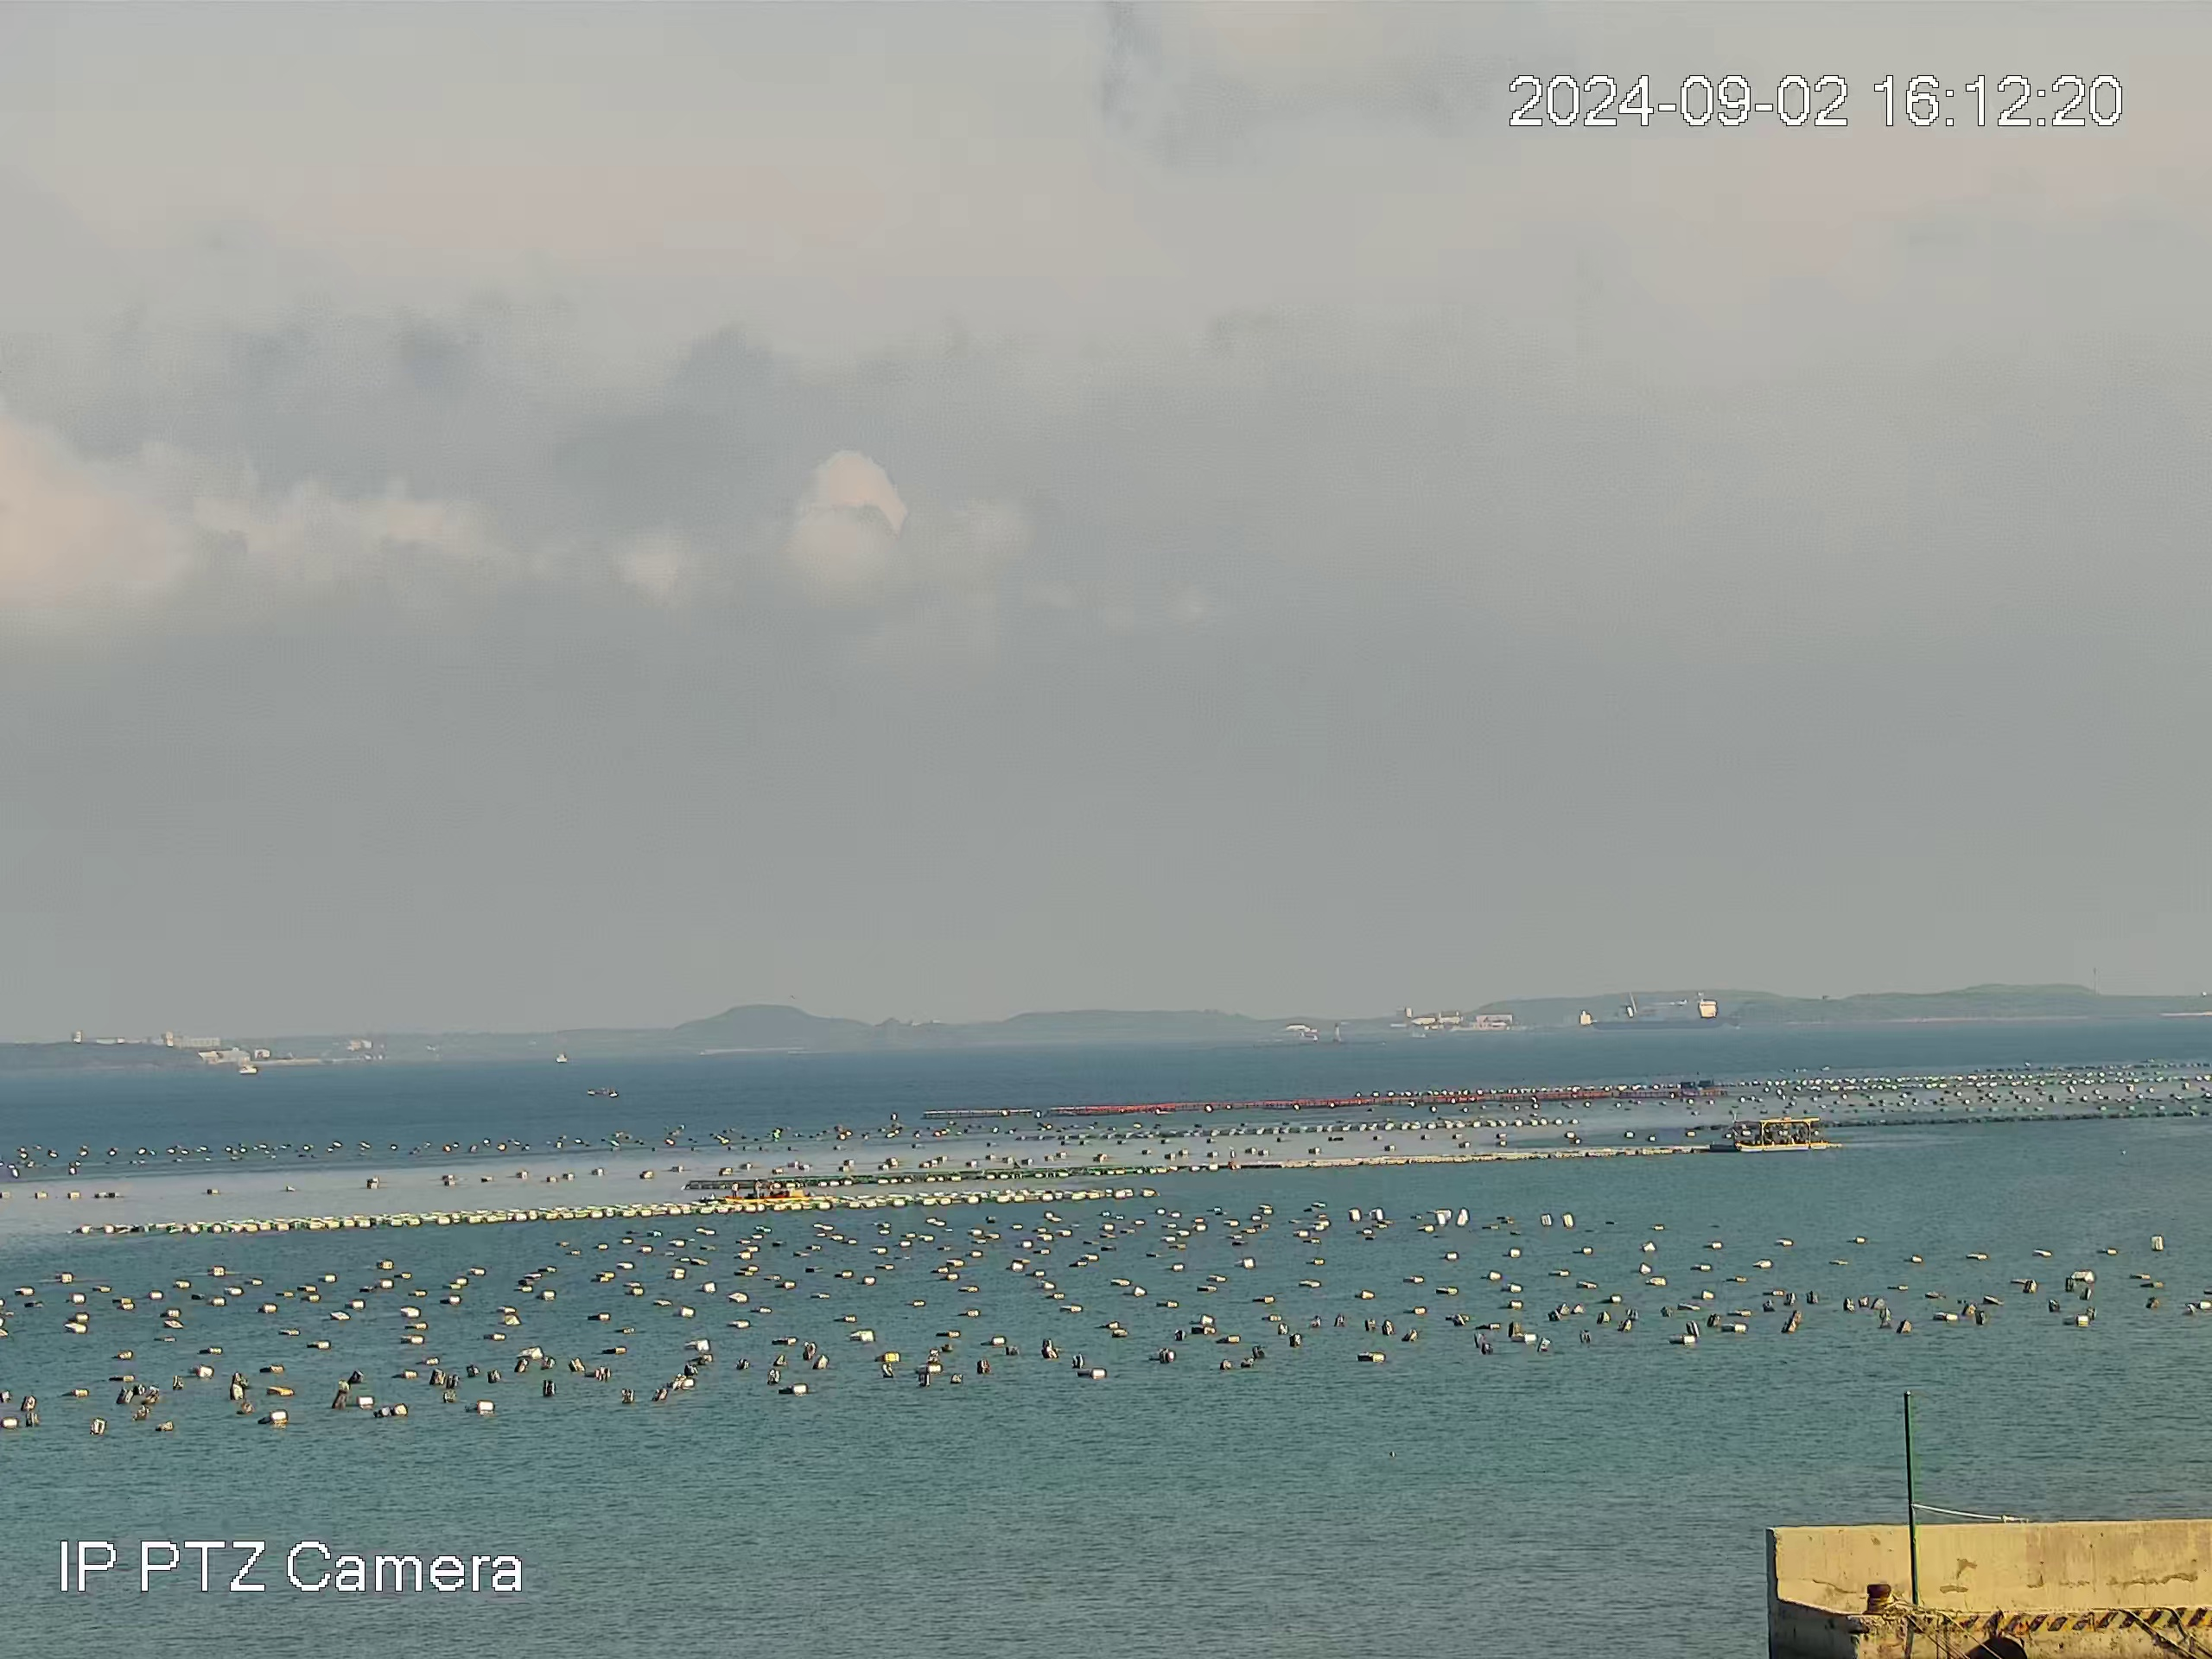boat: (1588, 997, 1745, 1032), (1733, 1117, 1829, 1154), (721, 1178, 815, 1204)
